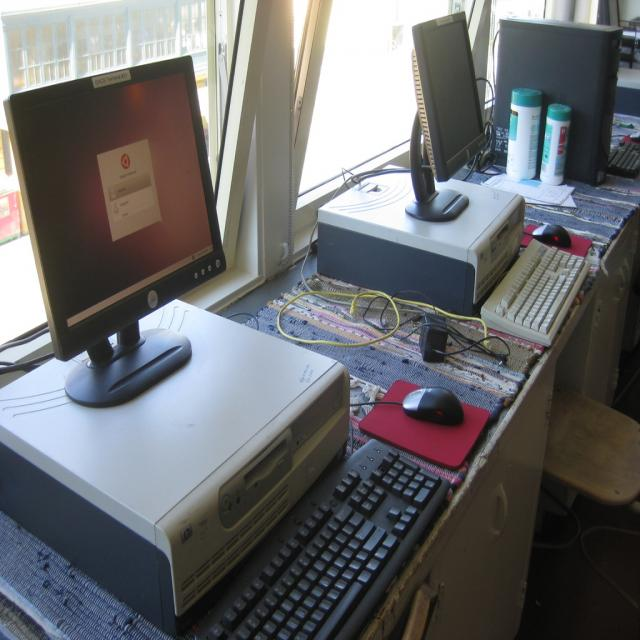desk: (5, 210, 636, 638)
keyboard: (178, 438, 455, 639), (479, 236, 594, 348)
mouse: (402, 386, 464, 426), (532, 224, 572, 248)
tv: (4, 55, 228, 366), (411, 11, 487, 186)
